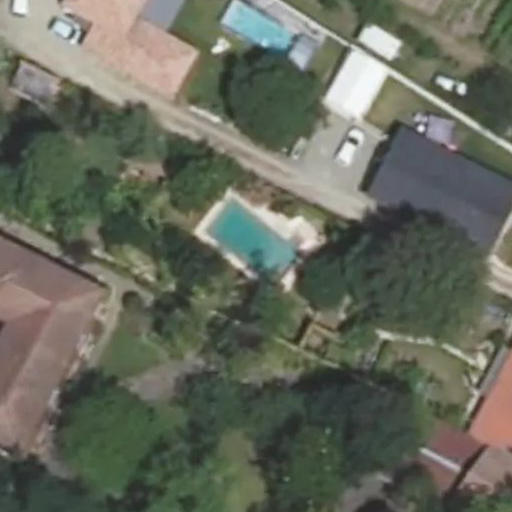pool: (195, 232, 315, 243)
